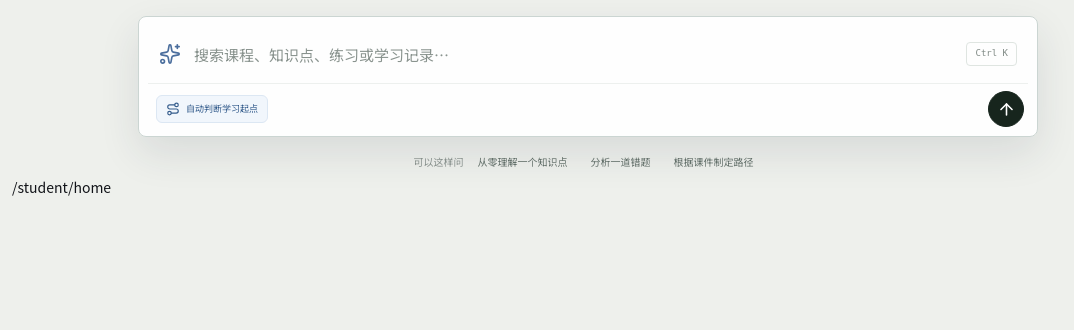
Test case: HomeSearch › opens the highlighted result with ArrowDown and Enter
Type "能力" into the search field named "检索平台内容".
click(574, 54); type("能力")  # box [194, 25, 954, 83]
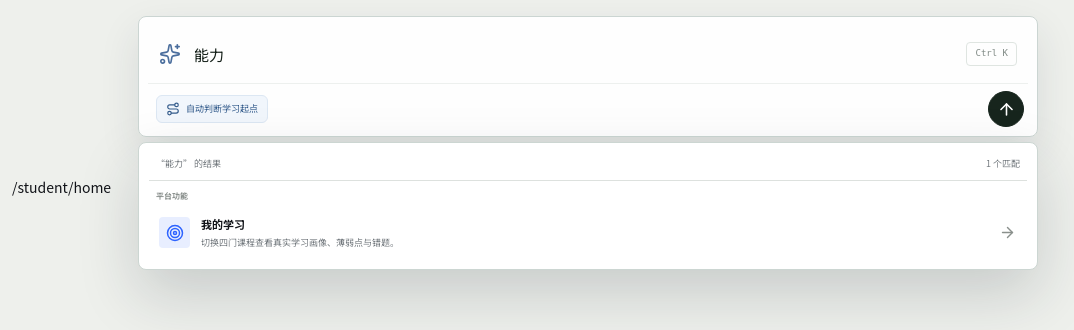
Press ArrowDown in the search field named "检索平台内容", box [194, 25, 954, 83]
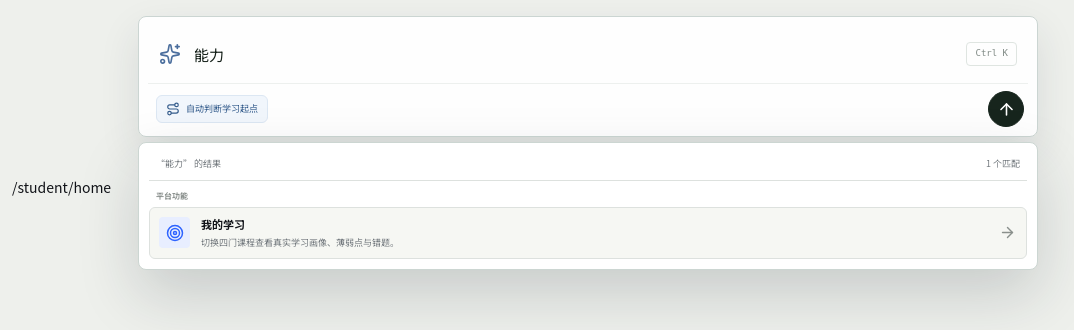
Press Enter in the search field named "检索平台内容", box [194, 25, 954, 83]
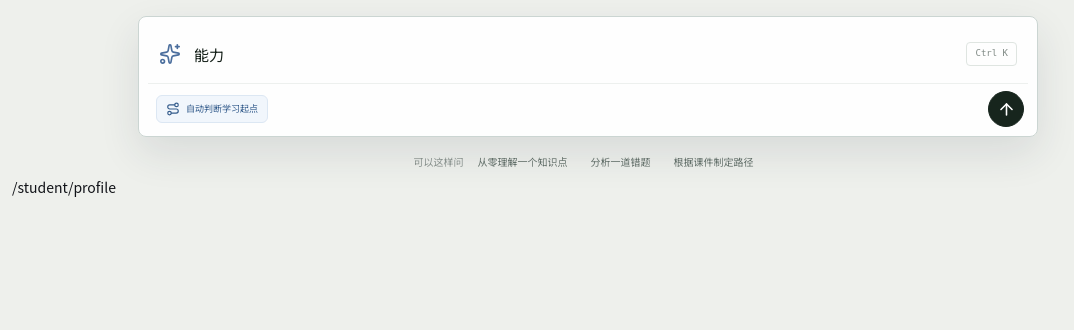
Result: the text named "当前路径" reads "/student/profile" at [12, 177, 116, 197]
